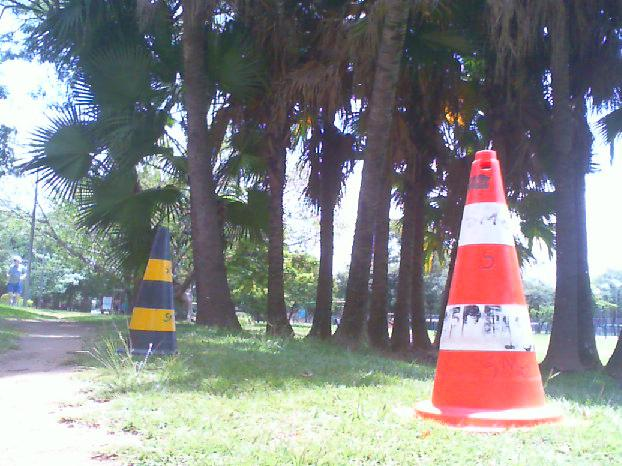0 cone: (390, 150, 590, 432), (116, 227, 178, 356)
